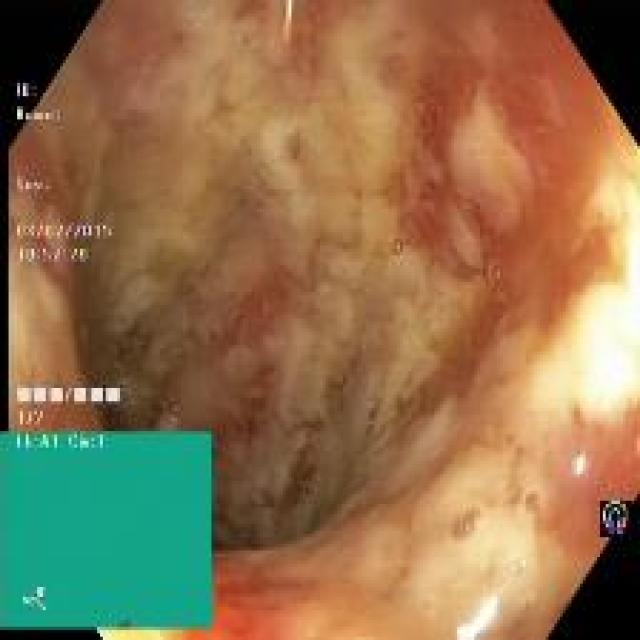ulcerative-colitis-grade-3: (10, 1, 640, 638)
